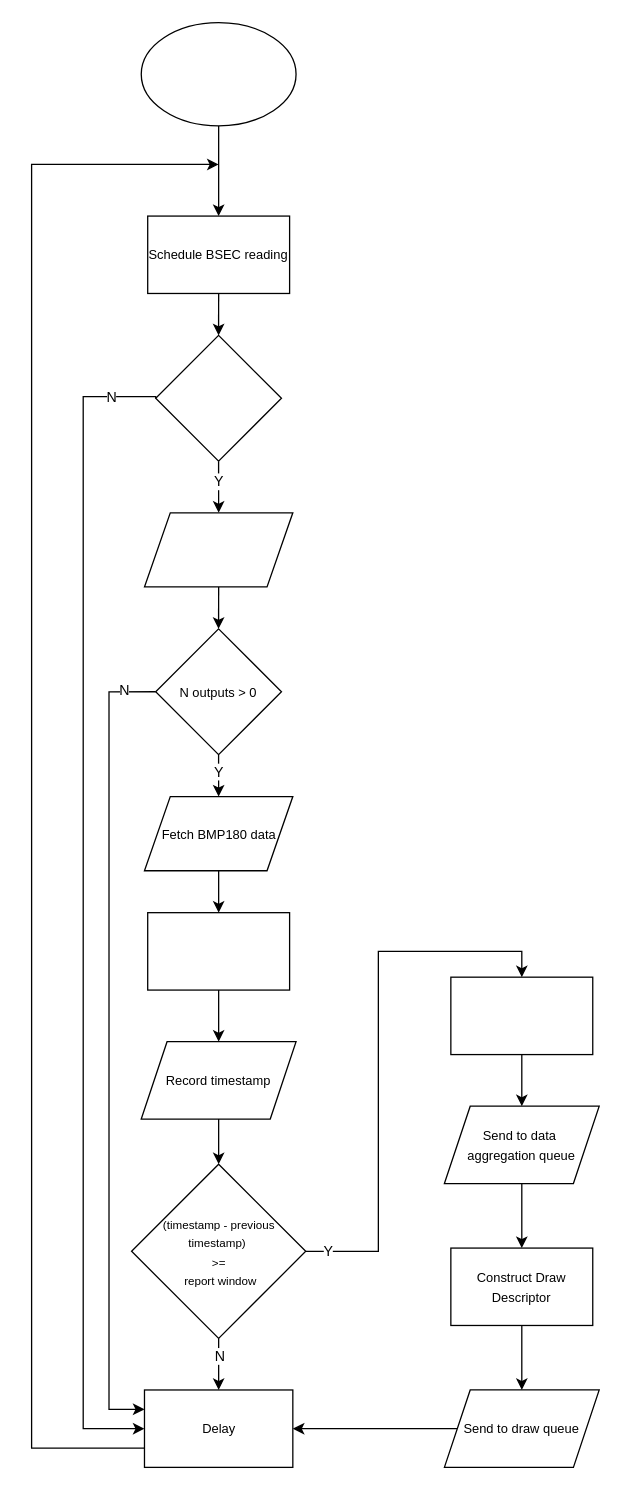
Image size: 622x1490. Some labels were removed from this diagram. The centre of each missing label's shape, as x and y in pixels:
"Construct Sensor Payload" belongs at (521,1015).
"Enter Task" belongs at (218,73).
"Fetch BSEC data" belongs at (218,549).
"Map sensor data" belongs at (218,950).
"Success" belongs at (217,397).
